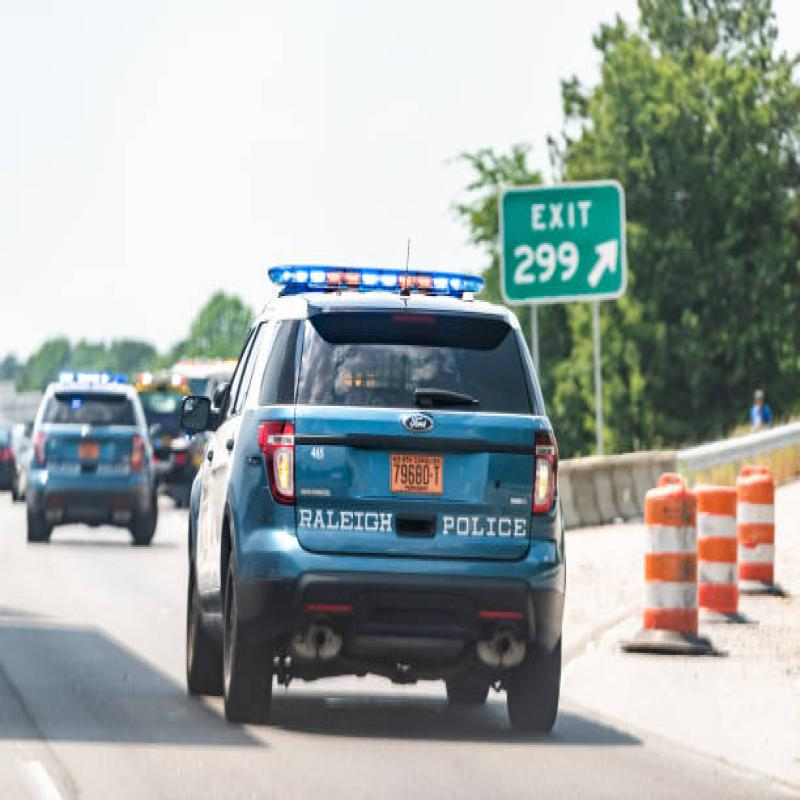AmbulanceSiren: (260, 243, 486, 317), (56, 353, 134, 400)
